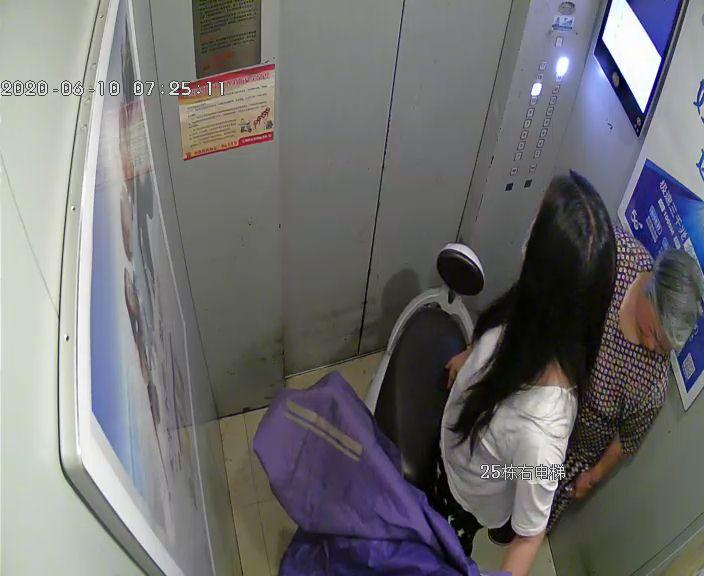Electric-bicycle: (366, 243, 484, 471)
